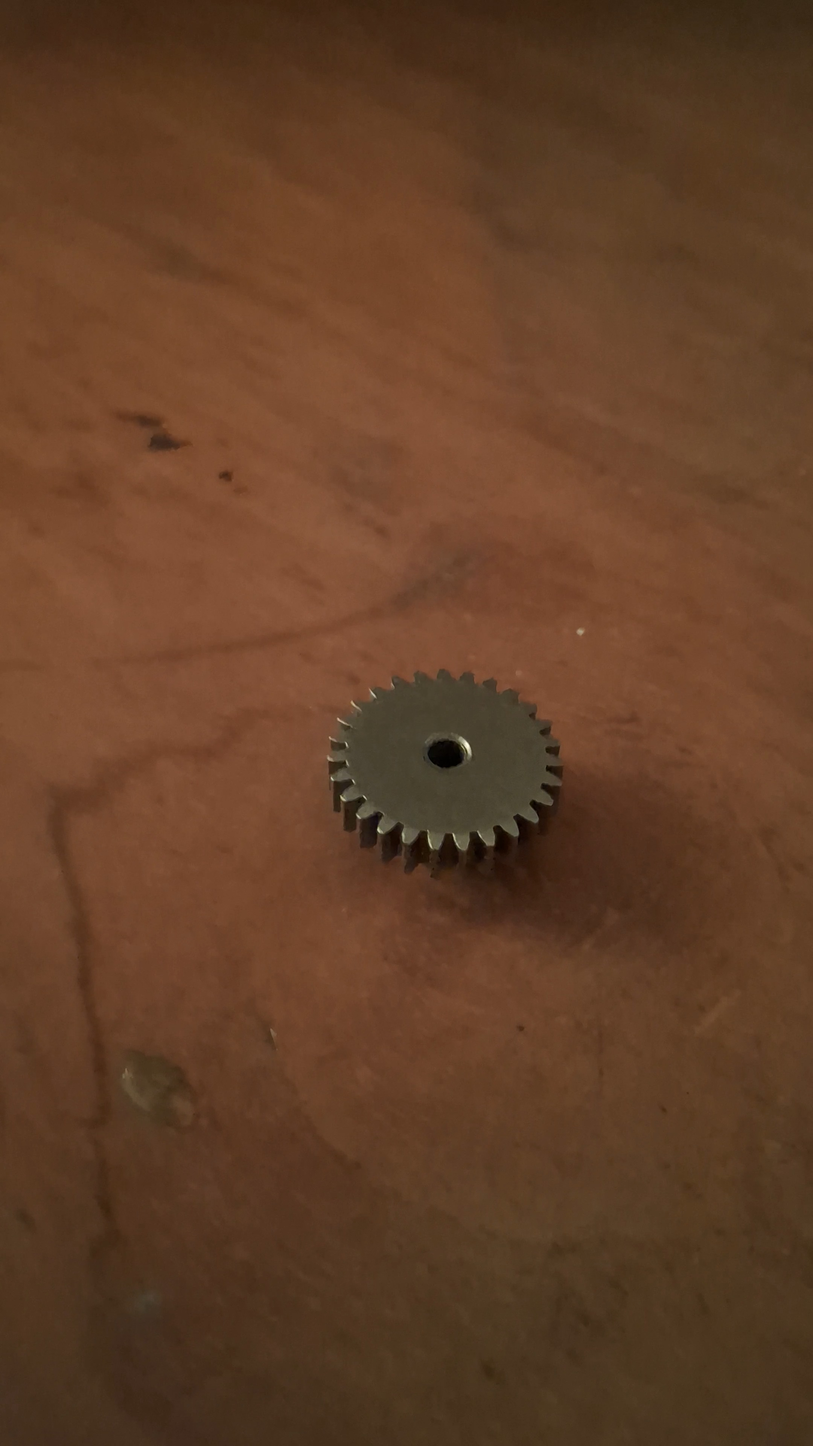spur gear: (329, 670, 561, 871)
